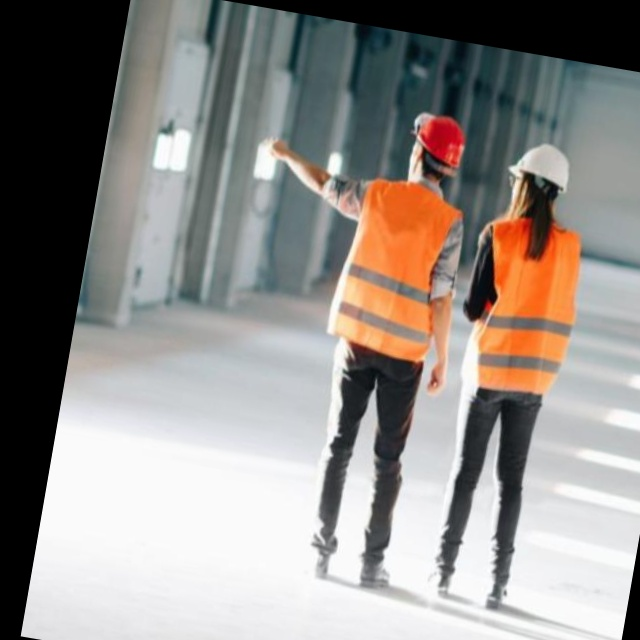Con_Chaleco: (322, 170, 469, 370), (456, 208, 590, 405)
